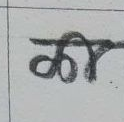i_matra: (69, 32, 102, 81)
